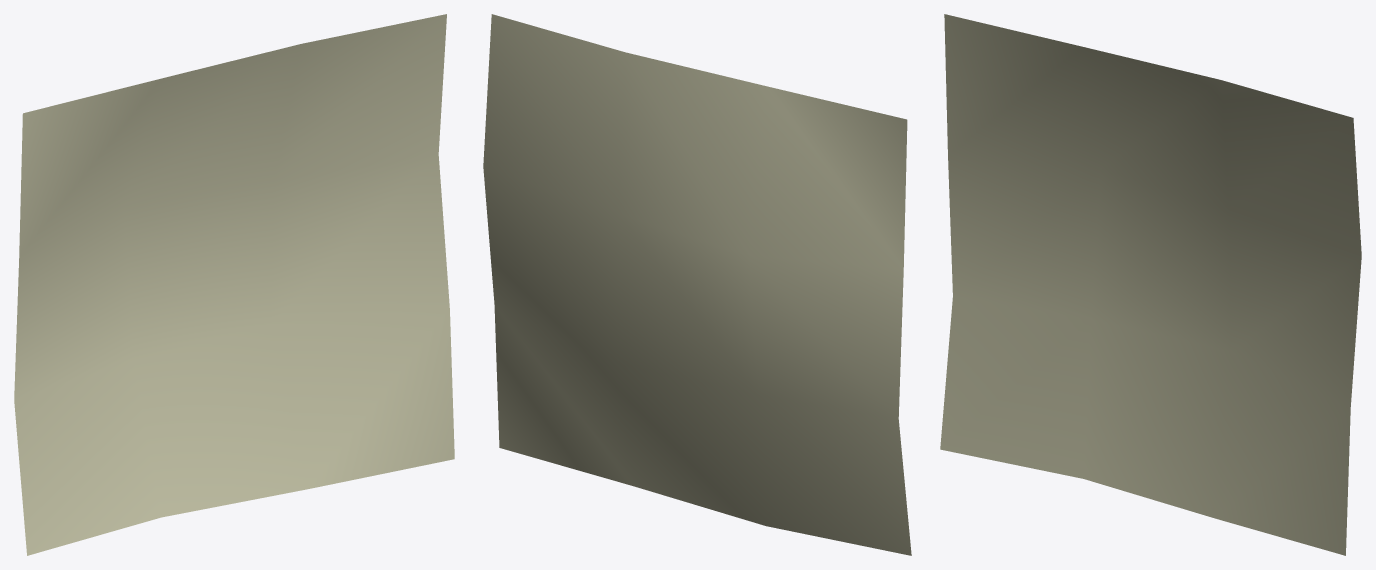
3 views of the same model, side by side, from view 1: azimuth 30°, elevation 25°; view 2: azimuth 150°, elevation 25°; view 3: azimuth 330°, elevation 25° (orthographic).
Parts seen in each view (by area): view 1: Object70; view 2: Object70; view 3: Object70.
Boxes of the visible parts, box(x1,y1,x2,y2) form: Object70: box(14, 14, 454, 555); Object70: box(483, 14, 911, 555); Object70: box(940, 14, 1361, 555).
Bounding box in the file's own units: 36870 × 36870 × 6166.
